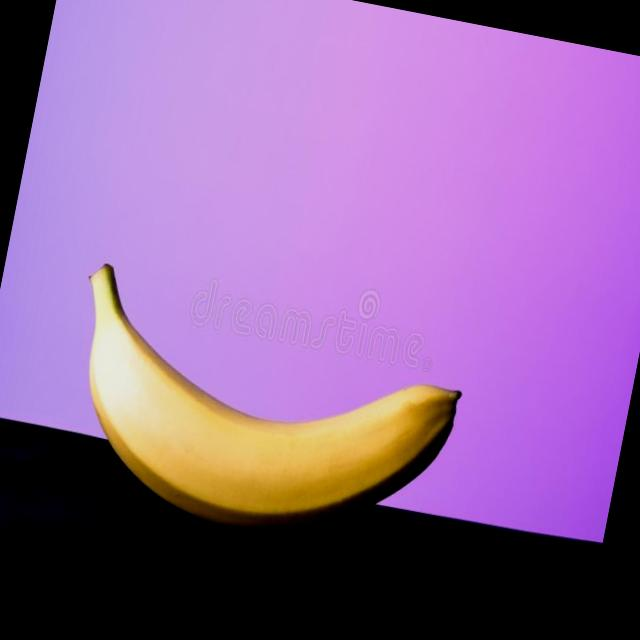Platano: (42, 258, 477, 571)
